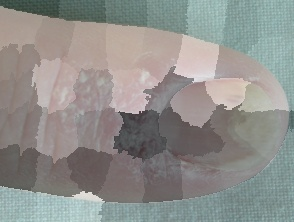Nail_psoriasis: (32, 23, 292, 222)
